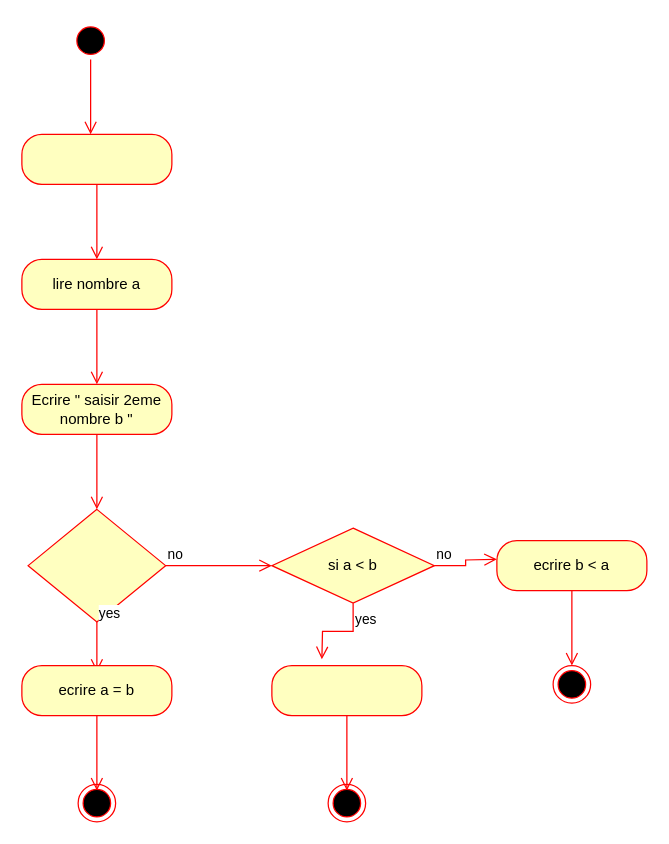
This 669x844 diagram has some shape labels left out. The centre of each missing label's shape, as x and y in pixels:
Ecrire " saisir 1er nombre a ": point (96, 158)
ecrire a < b: point (346, 690)
si a = b: point (96, 565)
